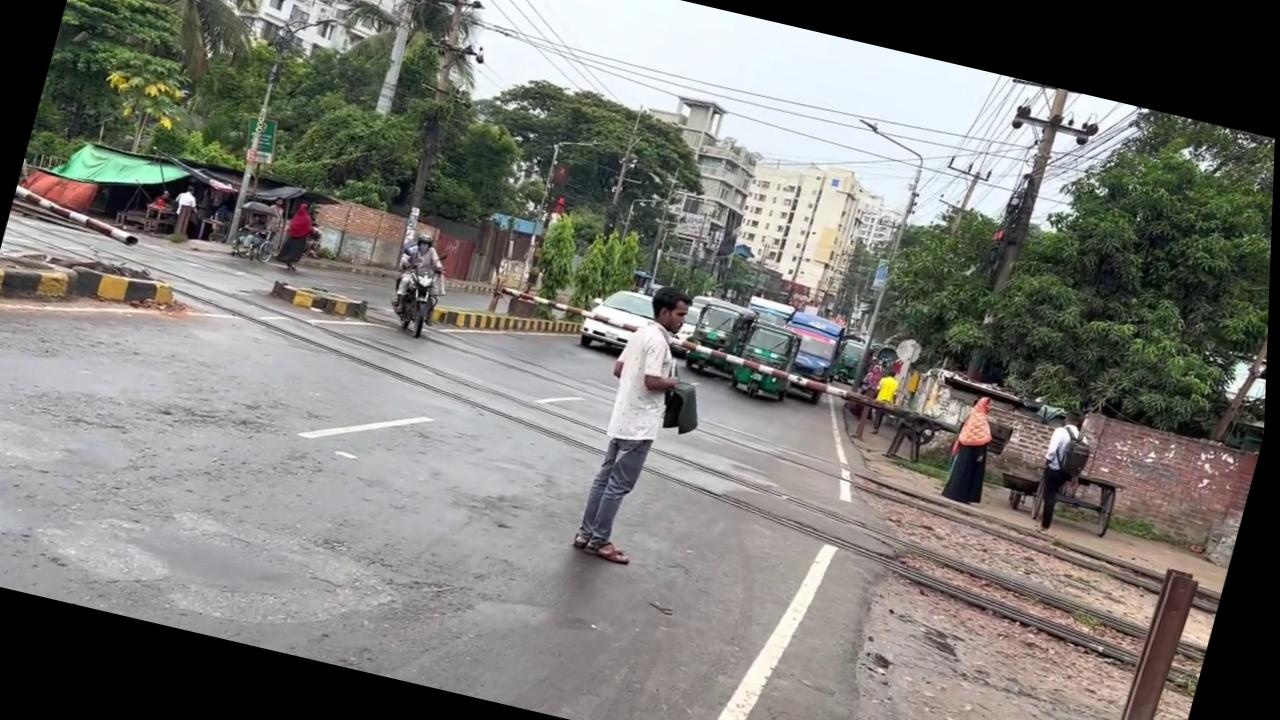Curb: (382, 242, 454, 340)
Fence: (568, 278, 706, 566), (1028, 404, 1099, 535), (942, 390, 1010, 507), (276, 200, 320, 272)
Garbage: (940, 78, 1107, 393), (790, 116, 934, 397), (9, 184, 147, 247), (371, 0, 433, 117)
Motorcycle: (0, 214, 1256, 689)
Pothole: (240, 114, 282, 161)
Railroad-crossing: (525, 207, 588, 316)
